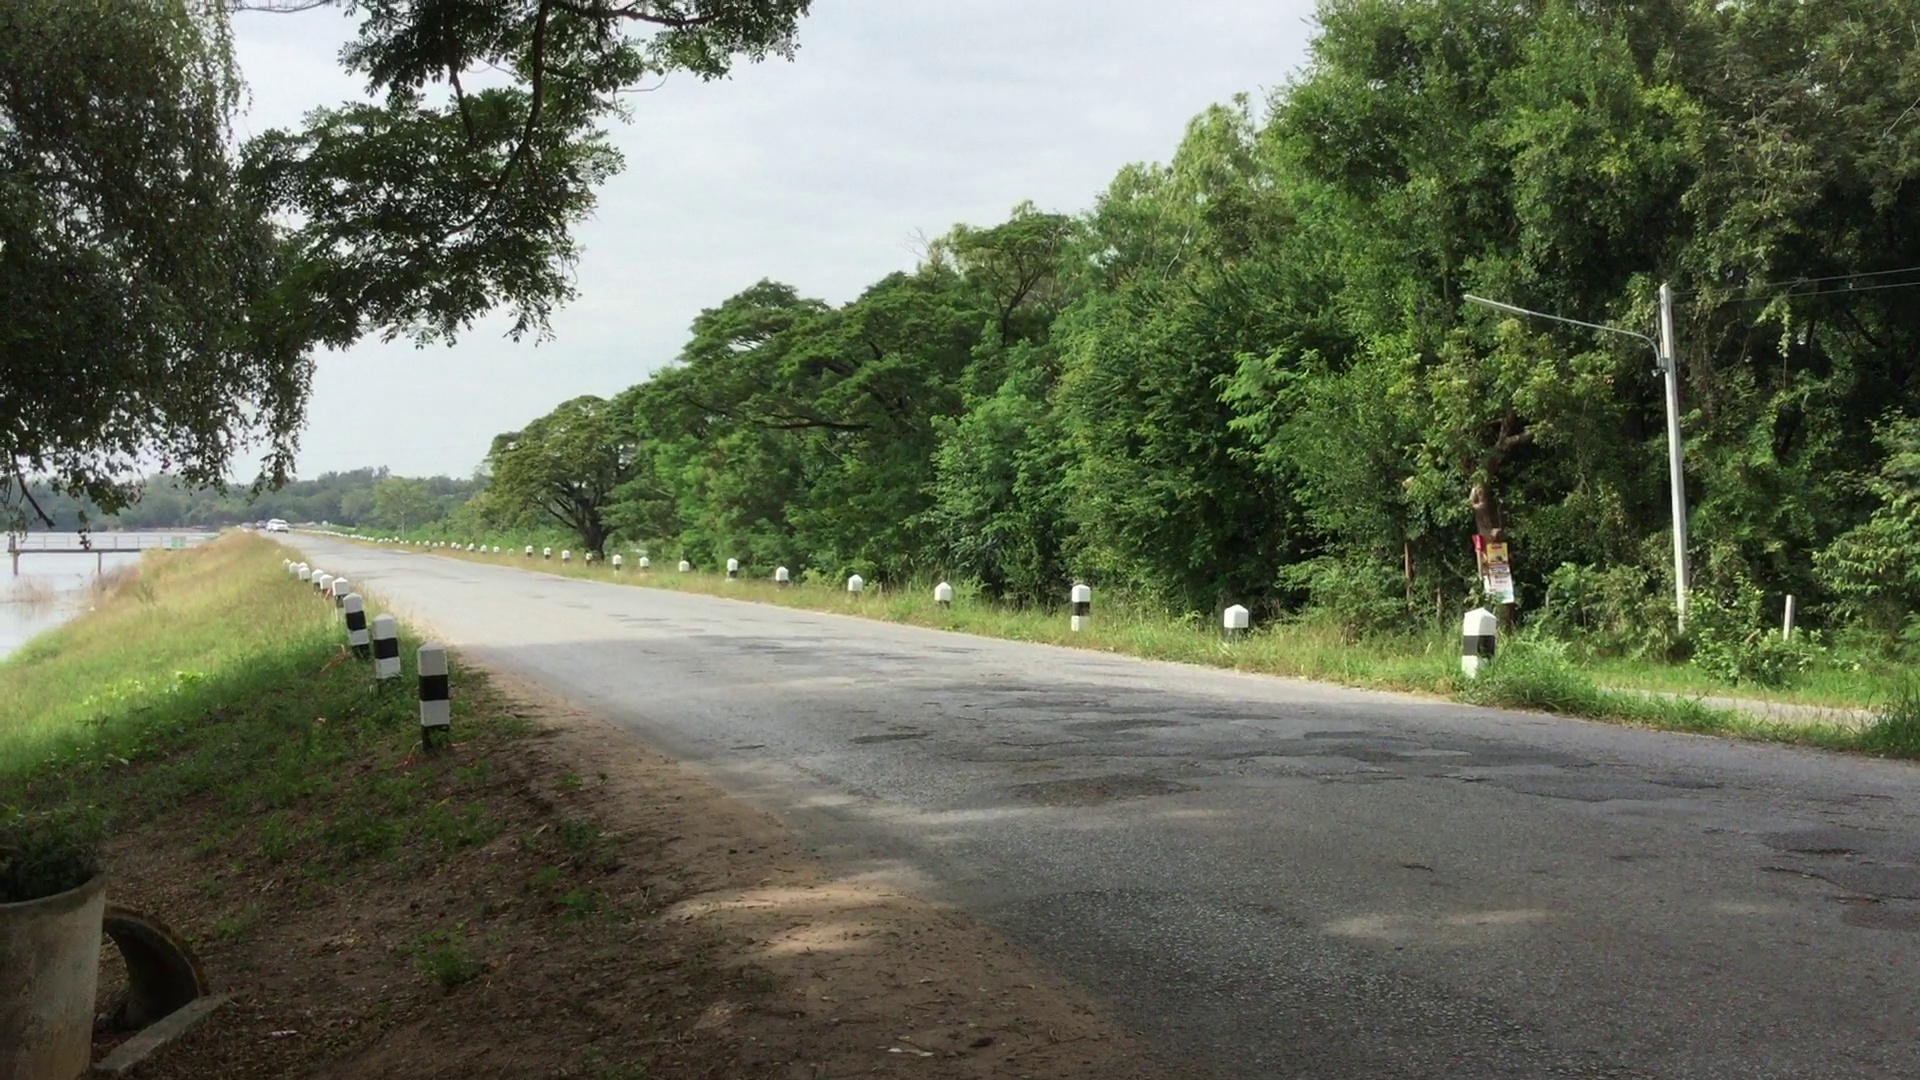post: (414, 640, 456, 750), (1458, 604, 1499, 683), (371, 611, 404, 684), (338, 589, 371, 658), (1067, 578, 1097, 636), (1218, 597, 1251, 647), (717, 553, 744, 587), (931, 578, 955, 611), (843, 571, 865, 603), (774, 559, 789, 593)
